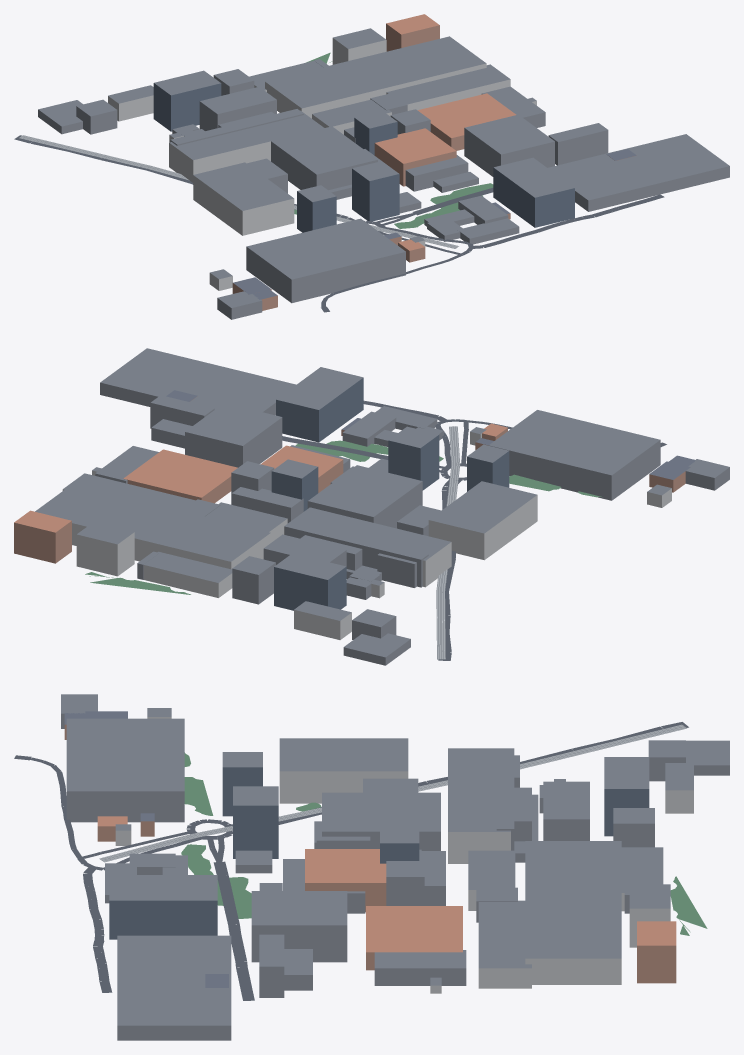
File: tile_2_5_lod1.glb
3 renders of one model, top to bottom at view 1: azimuth 30°, elevation 25°; view 2: azimuth 150°, elevation 25°; view 3: azimuth 270°, elevation 25°, orthographic. The views are drawn at different scales.
Parts seen in each view (by area): view 1: TileRoot; view 2: TileRoot; view 3: TileRoot.
Boxes of the visible parts, <box> form: TileRoot: <box>14,14,729,319</box>; TileRoot: <box>14,348,729,665</box>; TileRoot: <box>14,694,729,1040</box>.
Bounding box in the file's own units: 463 × 34.98 × 424.
